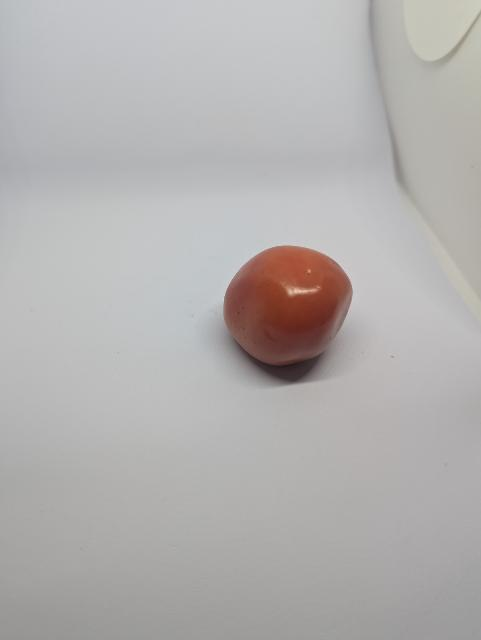red: (210, 236, 360, 383)
